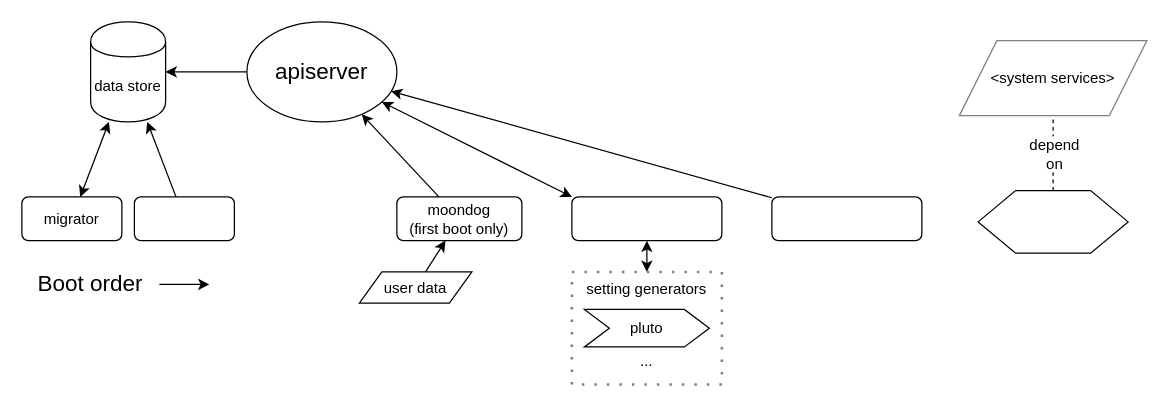
This 1169x408 diagram has some shape labels left out. Here are the shapes that lost their labels. From the top down, the centre of each, then its label:
At pixel 183 218: "storewolf".
At pixel 646 218: "sundog".
At pixel 846 218: "settings-applier".
At pixel 1052 221: "configured.target".
